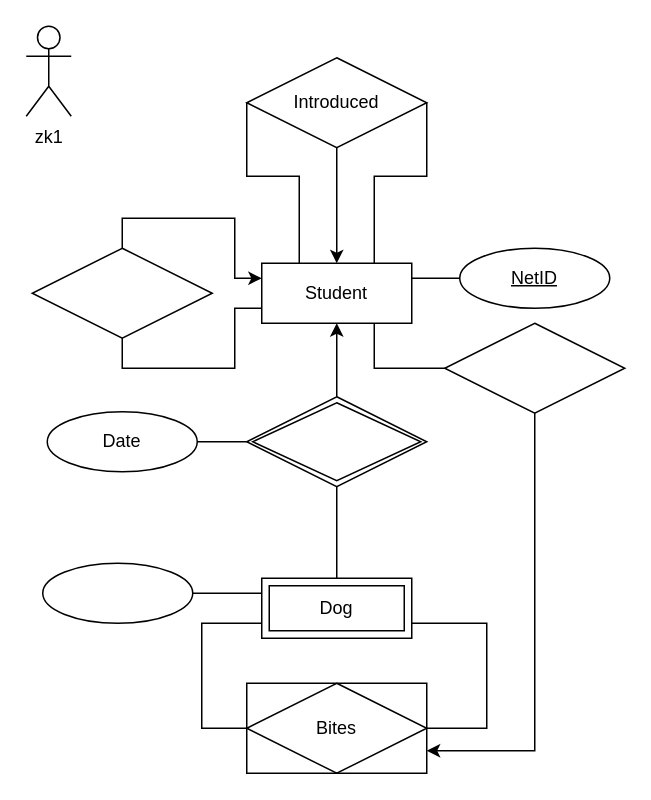
Image size: 651x800. Some labels were removed from this diagram. Each missing label, with the centre of its shape:
"Approves" belongs at (534,367).
"Belongs" belongs at (336,441).
"Mentors" belongs at (121,292).
"SerialNum" belongs at (117,592).
